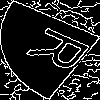R: (25, 25, 100, 80)
